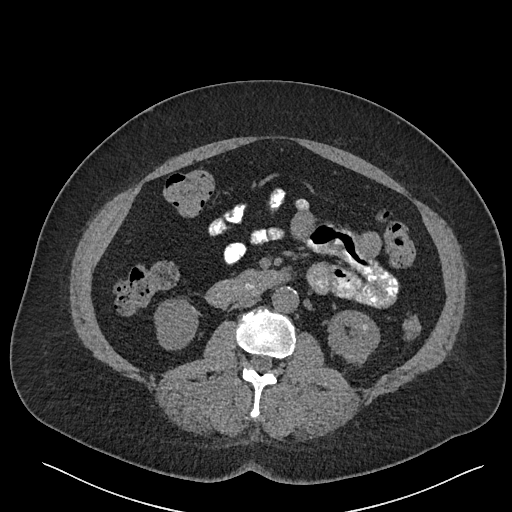Lesion: (359, 324, 368, 333)
